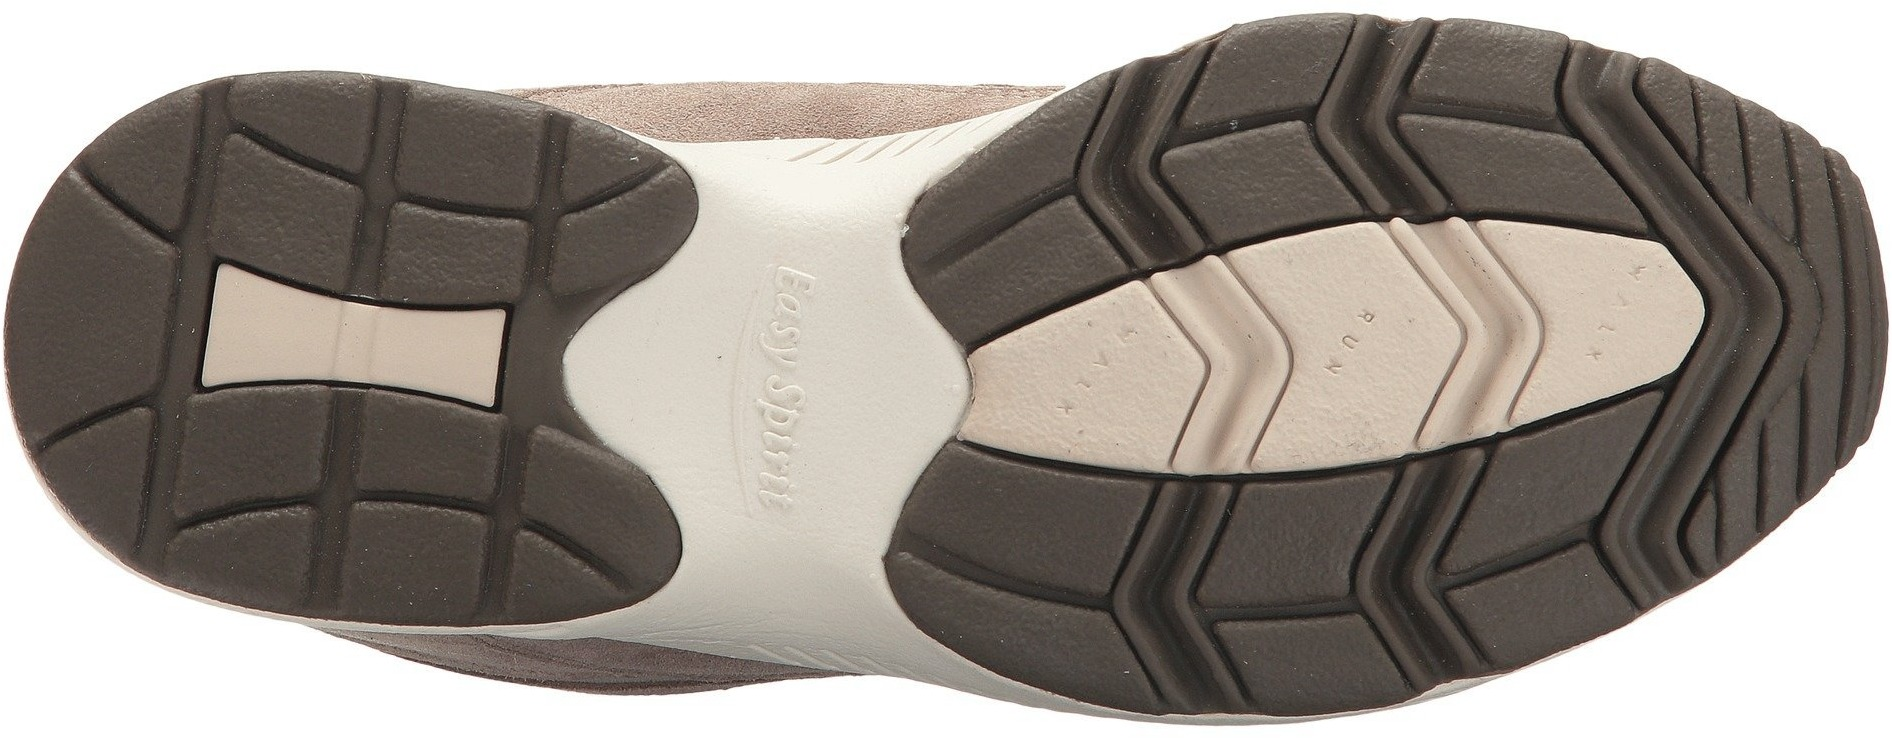bowtie: (177, 191, 530, 492)
chevron: (1050, 121, 1571, 609), (1572, 175, 1847, 447)
other: (10, 234, 177, 389), (592, 301, 742, 441)
quad: (509, 429, 691, 594)
text: (725, 262, 842, 374), (735, 371, 823, 452), (737, 443, 808, 517)
